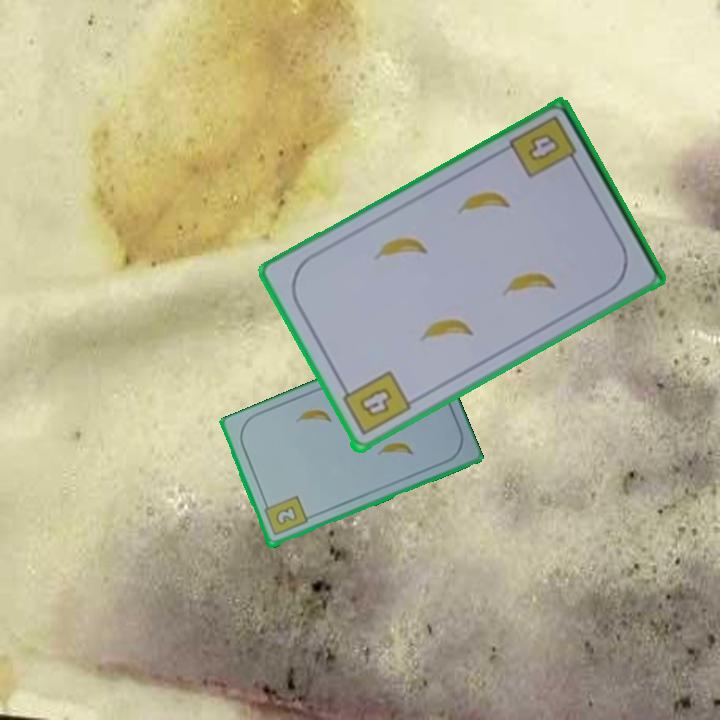2b: (260, 493, 310, 539)
4b: (336, 367, 413, 439), (523, 130, 564, 165)
